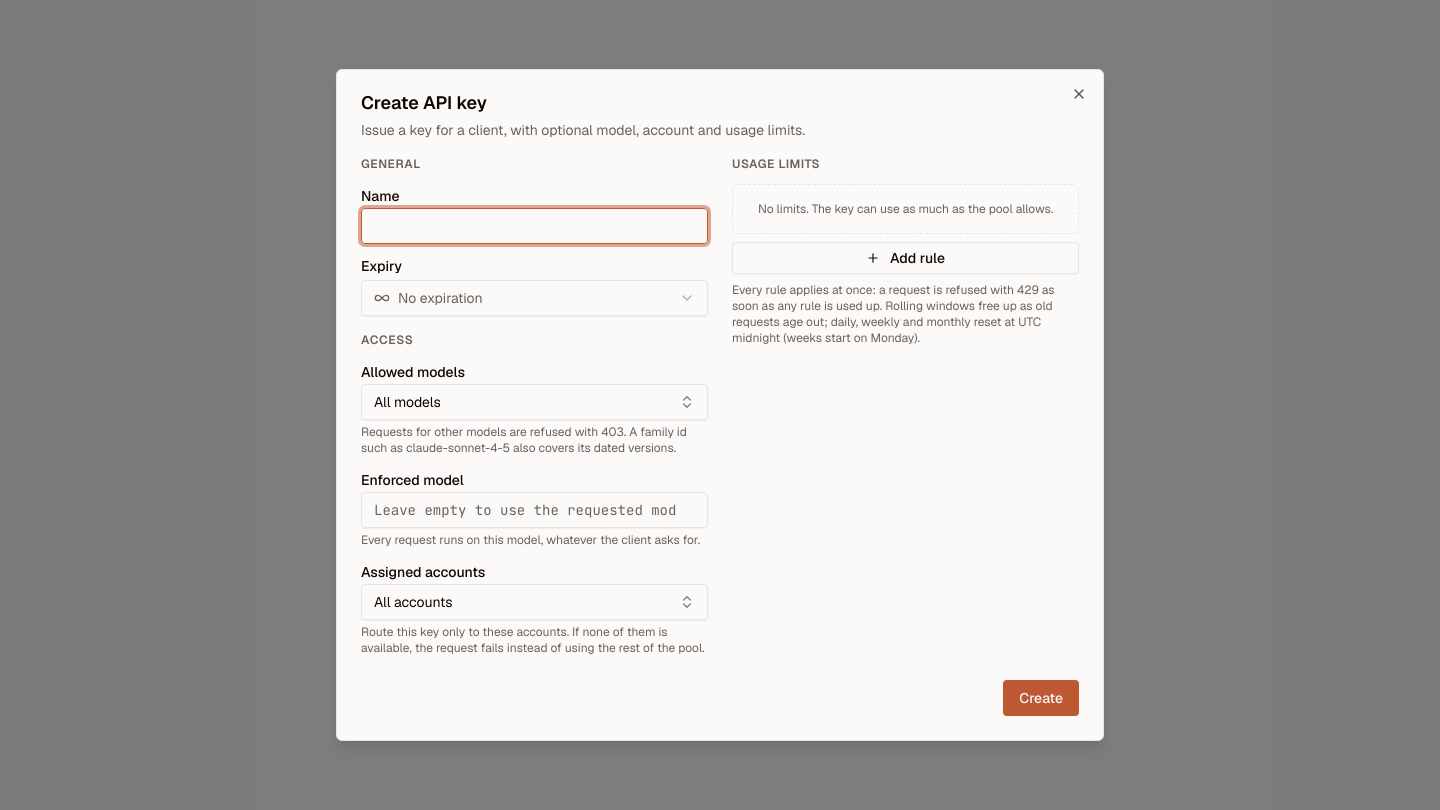
Scenario: ApiKeyFormDialog › requires a name and keeps the dialog open
Click the button "Create": (1041, 698) [1003,680,1079,716]
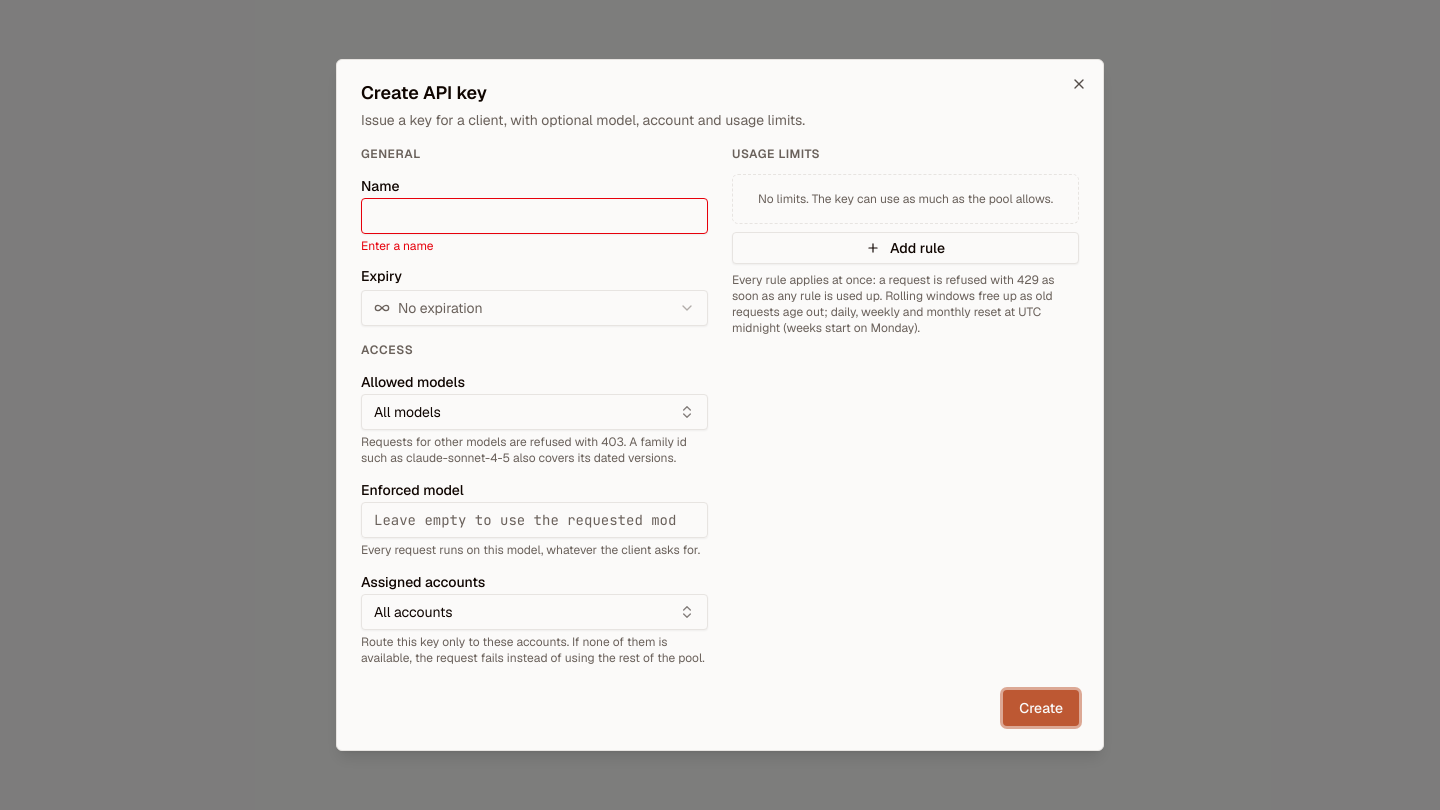
Check: the text "Enter a name" is shown, box [361,238,434,254]
